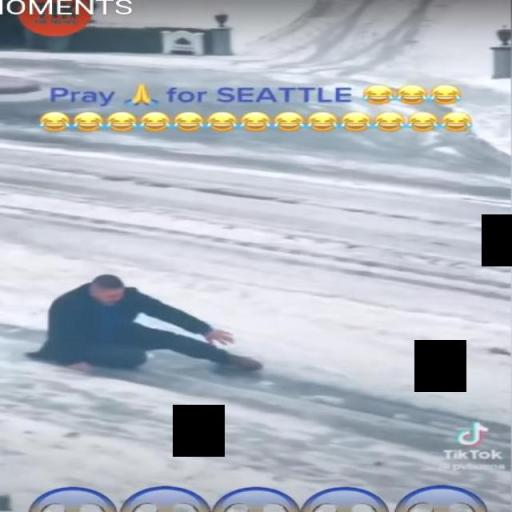Fall: (25, 272, 271, 384), (171, 485, 500, 510), (5, 489, 334, 509), (292, 488, 491, 512), (12, 492, 215, 512)
